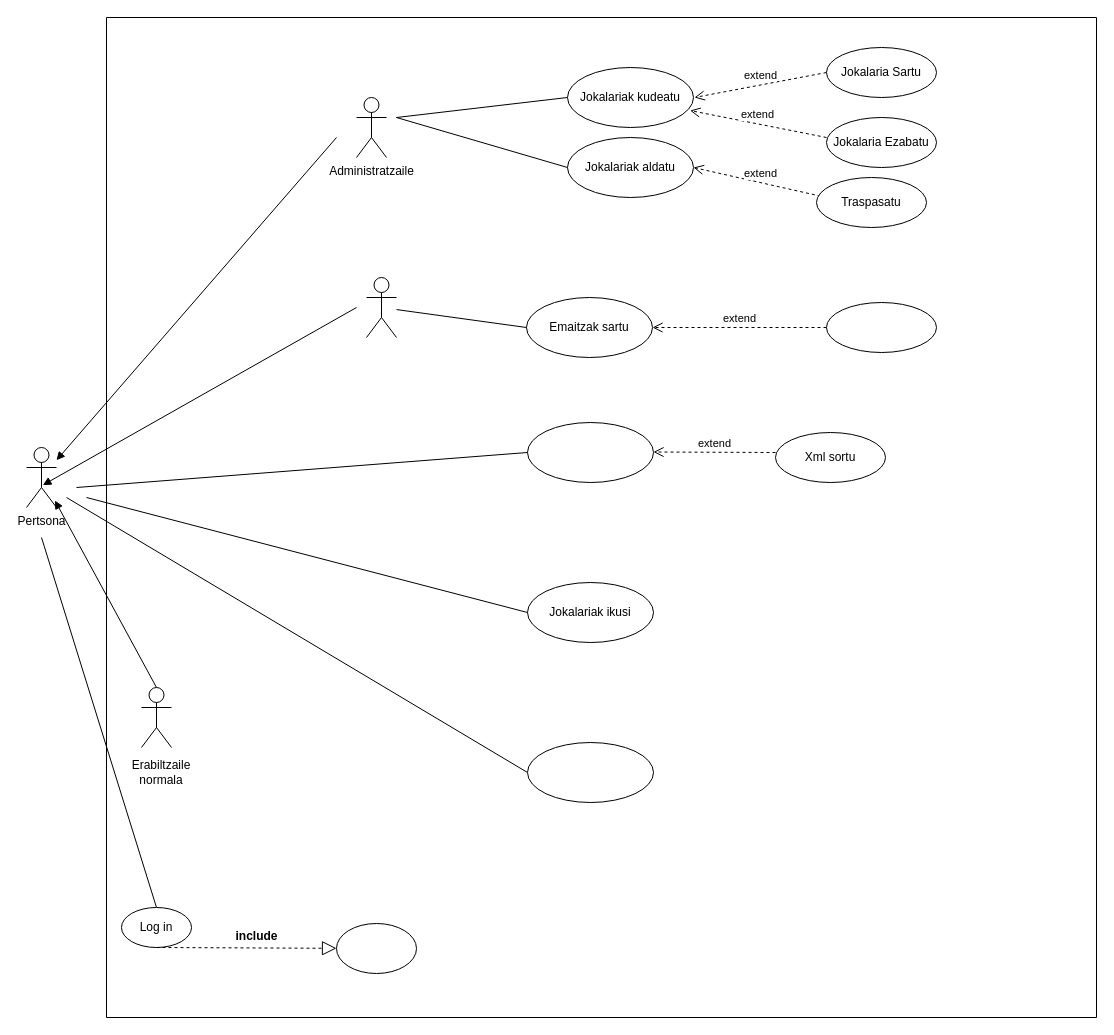
Image size: 1114x1035. Some labels were removed from this diagram. Each missing label, with the box of its shape:
Arbitroa: (366, 276, 396, 338)
Saioa Amaitu: (336, 922, 416, 974)
Salkapena ikusi: (526, 742, 654, 802)
Sartu: (826, 302, 936, 352)
Taldeak ikusi: (526, 422, 654, 482)
